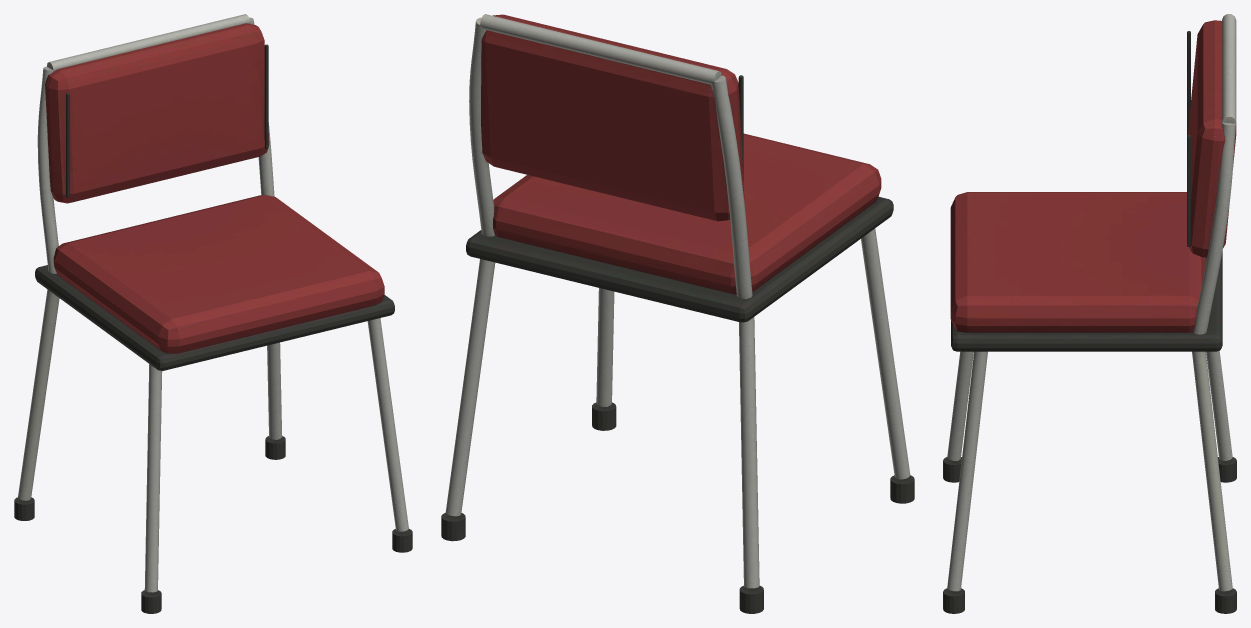
Rendered from props-chair-tubular-red.glb.
3 views of the same model, side by side, from view 1: azimuth 30°, elevation 25°; view 2: azimuth 150°, elevation 25°; view 3: azimuth 270°, elevation 25° (orthographic). The views are drawn at different scales.
Visible parts, largest first — view 1: case-baked; view 2: case-baked; view 3: case-baked.
Boxes of the visible parts, left/top/right/bottom form: case-baked: left=14, top=14, right=412, bottom=613; case-baked: left=441, top=14, right=914, bottom=613; case-baked: left=943, top=14, right=1236, bottom=613.
Size of the model in its own units: 0.514 by 0.8155 by 0.454.
1 material, 1 textured.
